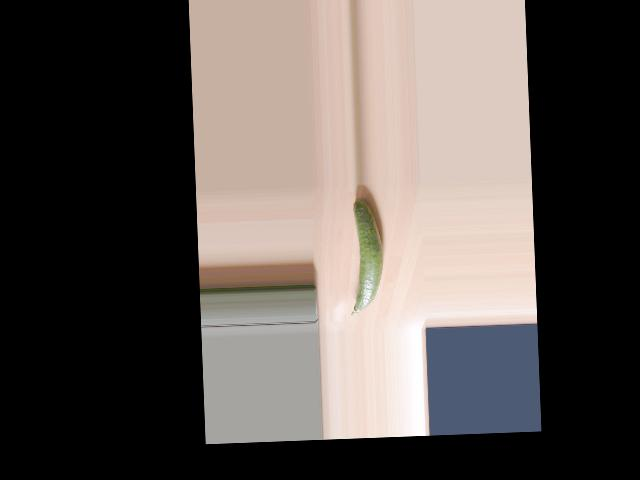cucumber: (347, 196, 386, 316)
